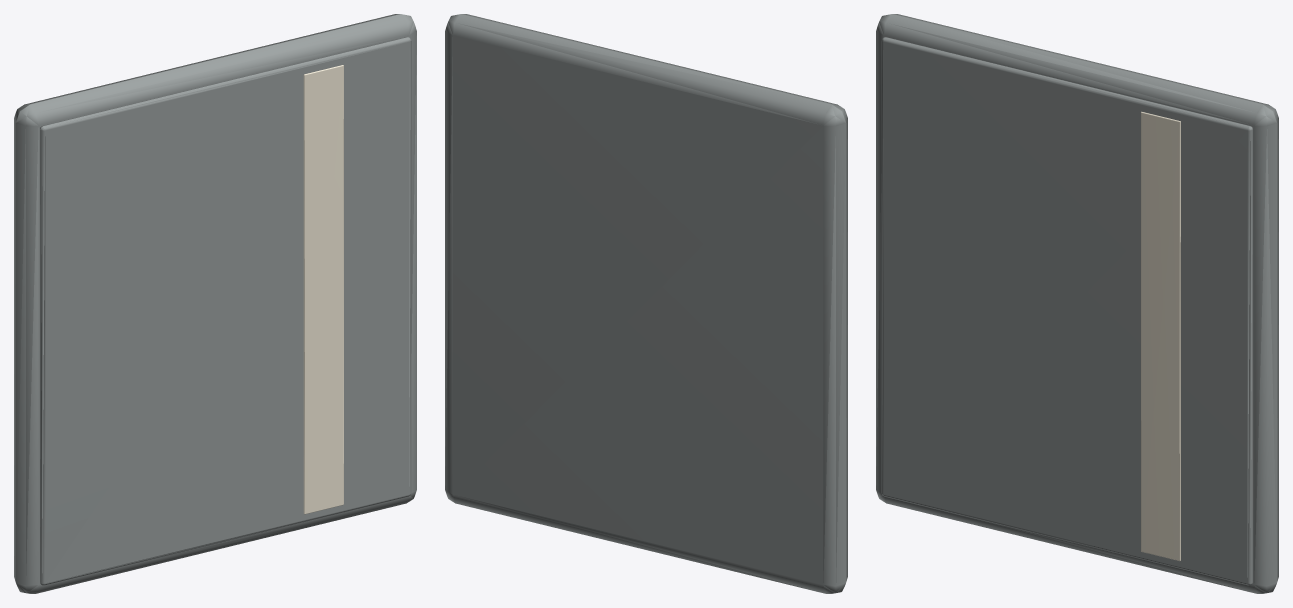
The model's file is 13_standard_mirror.glb.
3 views of the same model, side by side, from view 1: azimuth 30°, elevation 25°; view 2: azimuth 150°, elevation 25°; view 3: azimuth 330°, elevation 25° (orthographic).
Parts seen in each view (by area): view 1: 13_standard_mirror__Static; view 2: 13_standard_mirror__Static; view 3: 13_standard_mirror__Static.
Part boxes in pixels (bbox=[...]): 13_standard_mirror__Static: bbox=[14, 14, 416, 593]; 13_standard_mirror__Static: bbox=[445, 14, 847, 593]; 13_standard_mirror__Static: bbox=[876, 14, 1278, 593].
Bounding box in the file's own units: 0.76 × 0.89 × 0.07.
